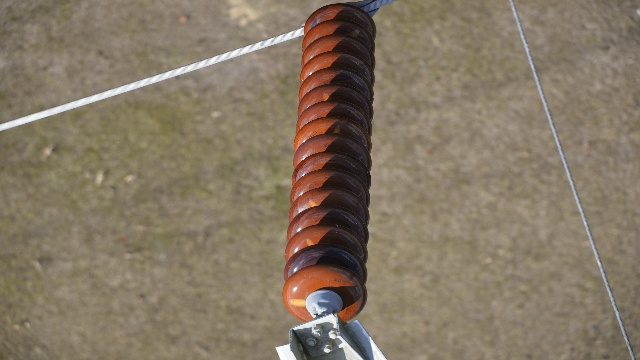insulator_unspecified: (283, 5, 378, 325)
pollution_flashover_local: (289, 297, 310, 312)
